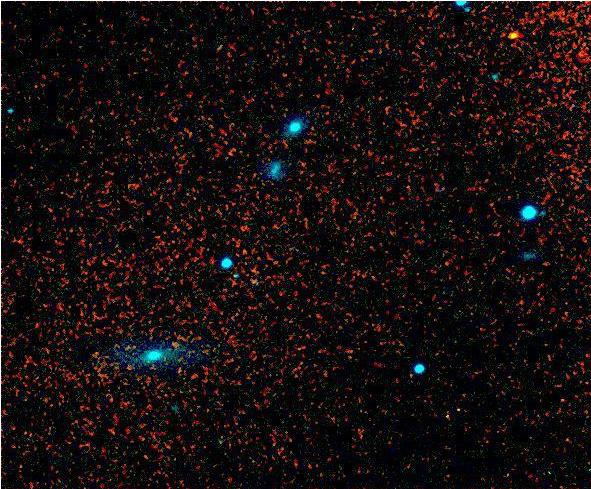star: (498, 17, 528, 47)
